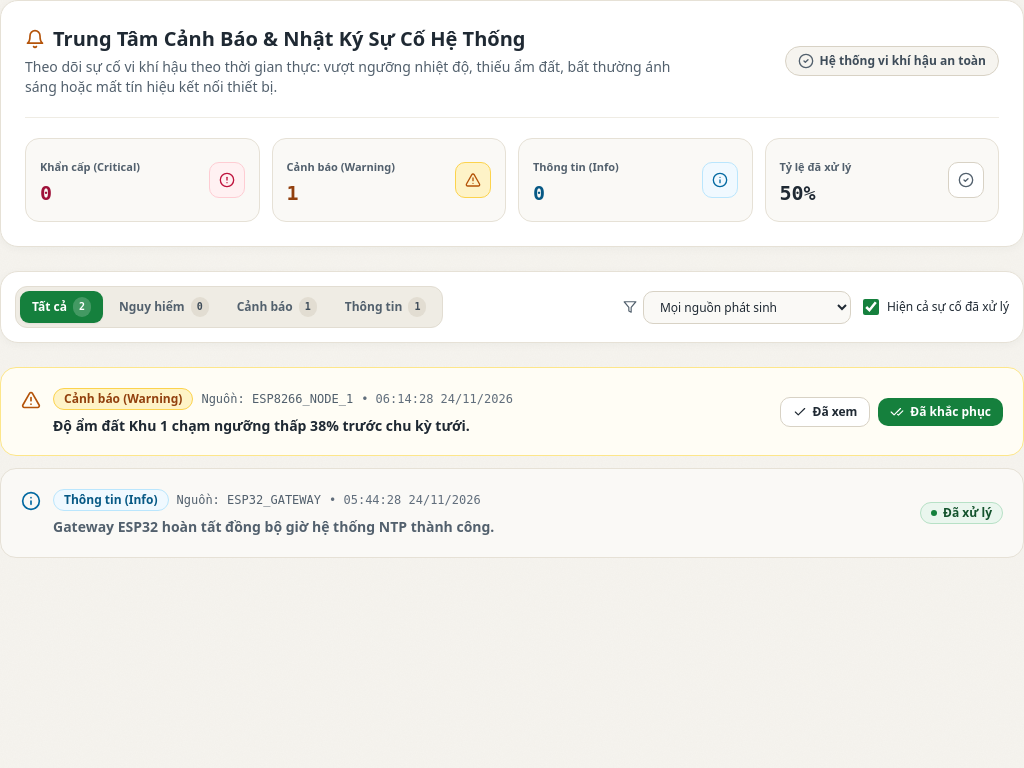
Test: AlertsPage Incident Management › marks alert as acknowledged
Click the button "Đã xem": point(825, 412) top-left (780, 397), bottom-right (870, 427)
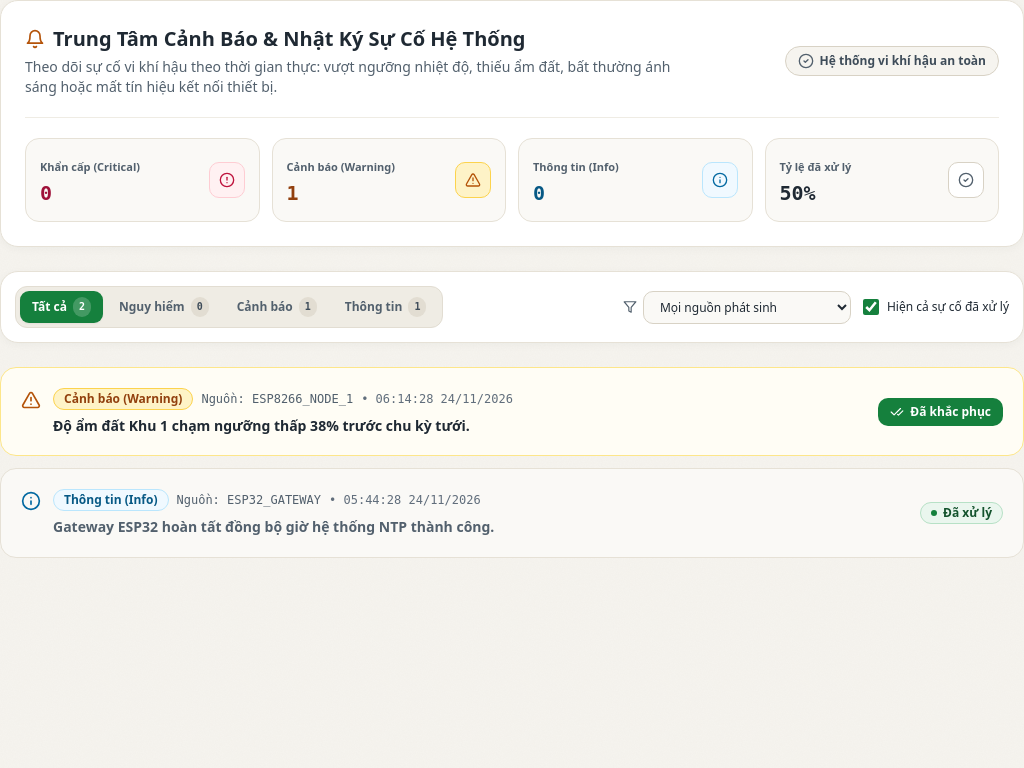
expect the button "Đã xem" is gone: met
